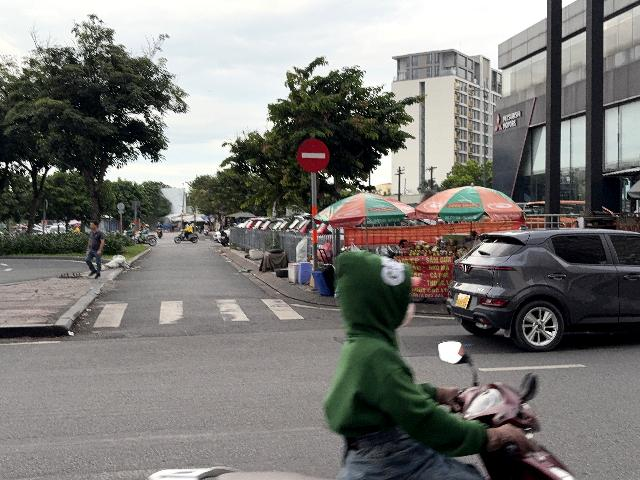cam-di-nguoc-chieu: (297, 138, 329, 173)
